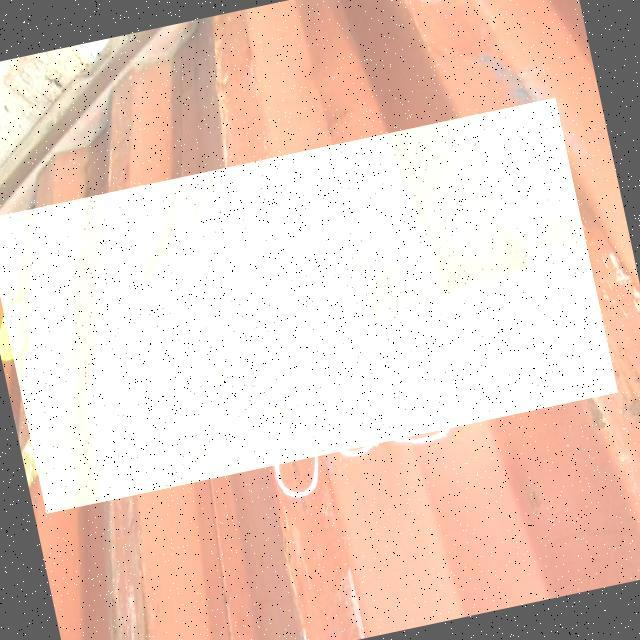Dent: (0, 97, 617, 513)
